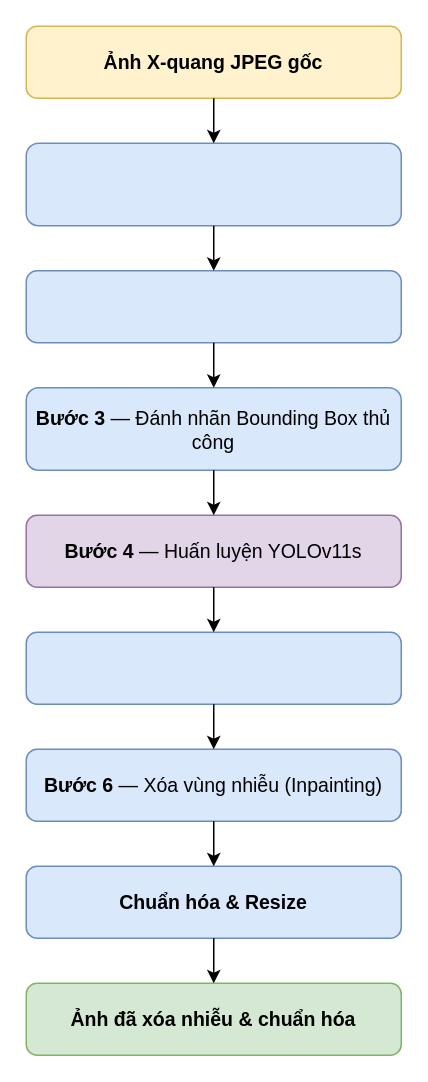
The diagram is 428 pixels wide and 1082 high, and some of its shapes have lost their labels. The box of each missing label's shape, as (x1, y1, x2, y2) in pixels:
Bước 1 — Chuyển JPEG → PNG: (25, 142, 401, 226)
Bước 2 — Upload lên Roboflow: (25, 269, 401, 343)
Bước 5 — Detect nhiễu trên toàn bộ ảnh: (25, 631, 401, 704)
